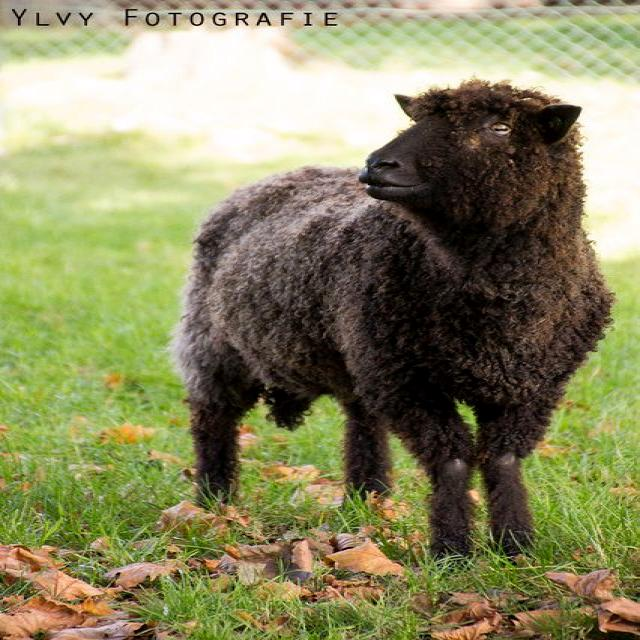sheep: (170, 79, 615, 566)
